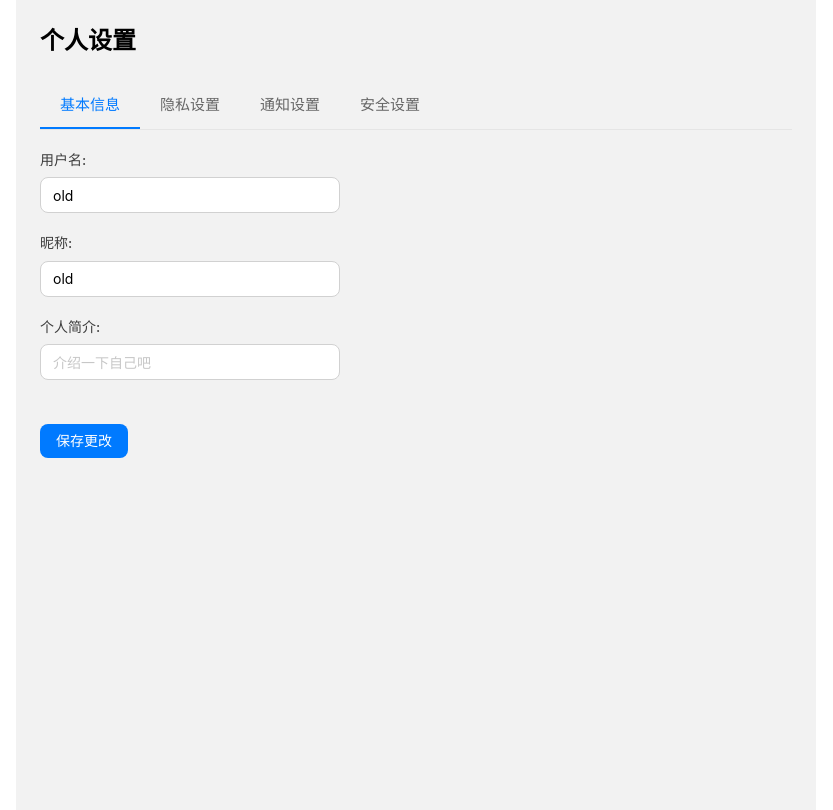
Test: reported user journeys › saves the profile and updates the auth store using the canonical envelope
The width and height of the screenshot is (833, 810).
Replace the text in the field below "用户名:" with "new" at coordinates (190, 195), box [41, 178, 339, 212]
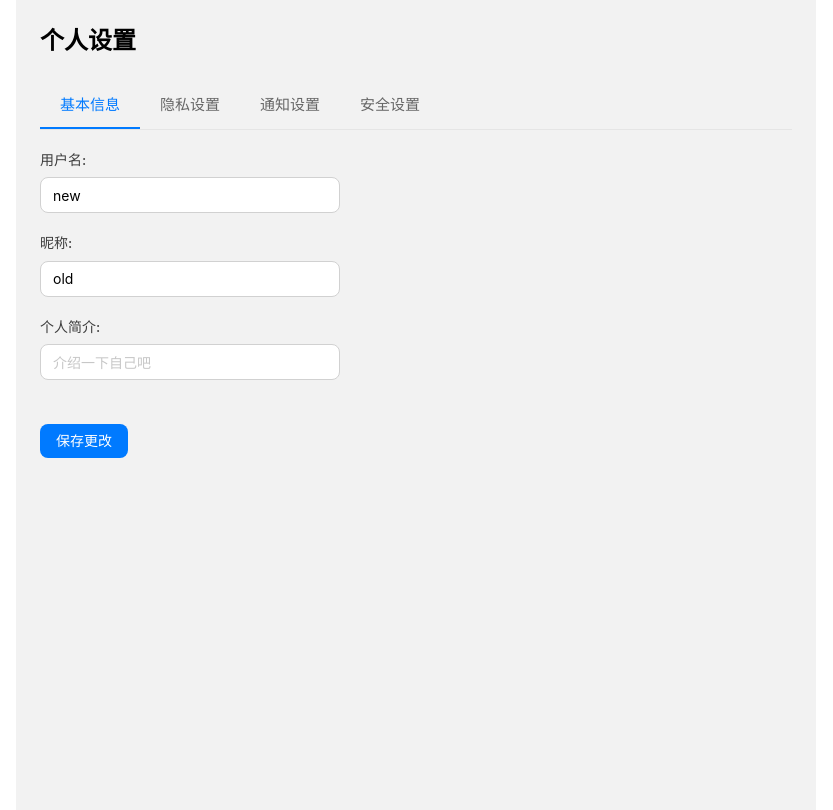
Click the button with class "save-btn".
click(84, 441)  # box [40, 424, 128, 458]
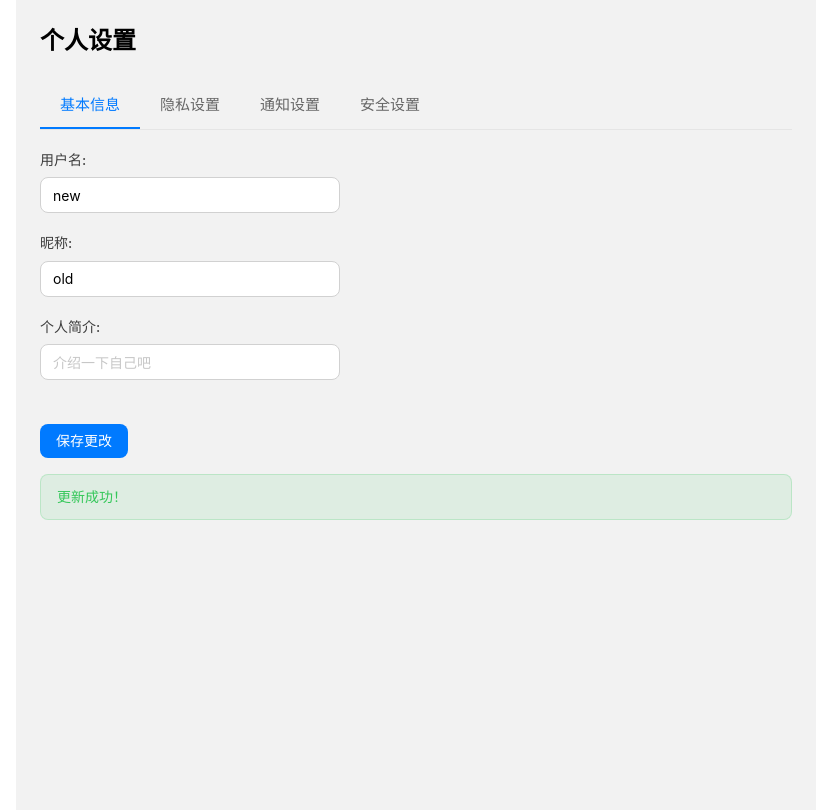
Check: the text "更新成功" is shown, box [57, 488, 127, 505]
